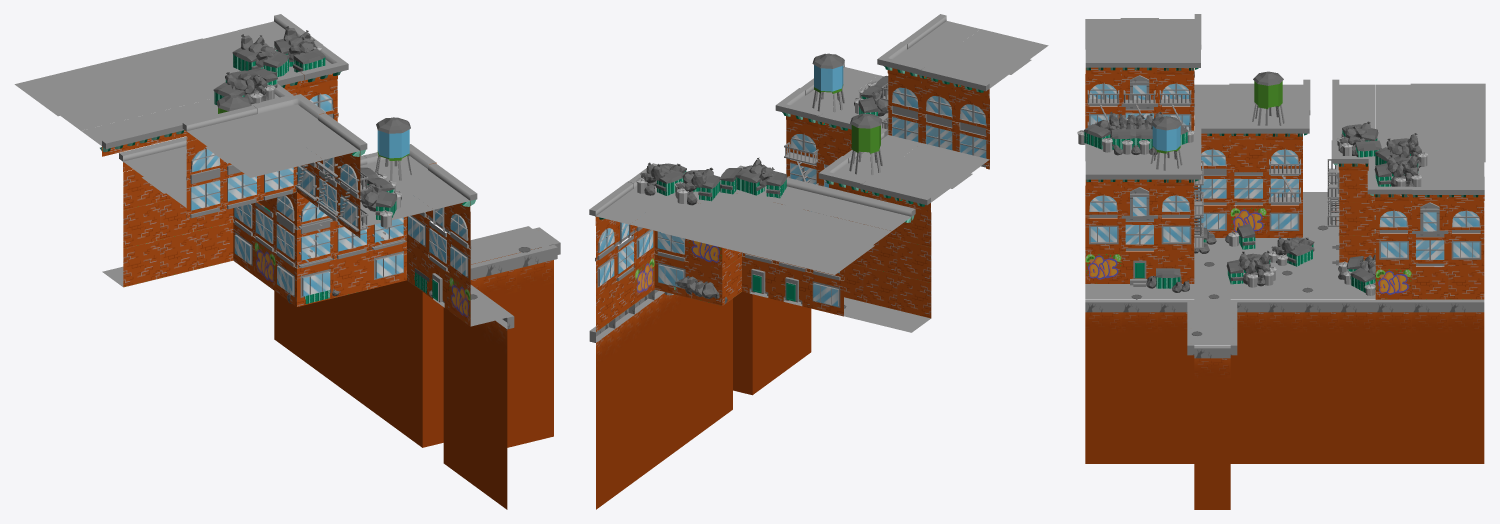
File: kamer_003_ randomized.fbx
3 renders of one model, left to right at view 1: azimuth 30°, elevation 25°; view 2: azimuth 150°, elevation 25°; view 3: azimuth 270°, elevation 25°, orthographic. The views are drawn at different scales.
Visible parts, largest first — view 1: Cylinder.001, Plane.494, Plane.528, Plane.503, Plane.531, Plane.535, Plane.631, Plane.632, Plane.534, Plane.630, Plane.633, Plane.402 (+100 smaller); view 2: Cylinder, Cylinder.001, Plane.494, Plane.507, Plane.381, Plane.535, Plane.534, Plane.531, Plane.500, Plane.502, Plane.504, Plane.601 (+105 smaller); view 3: Cylinder, Plane.374, Plane.459, Plane.582, Plane.610, Plane.613, Plane.658, Plane.660, Plane.245, Plane.246, Plane.247, Plane.585 (+136 smaller).
Boxes of the visible parts, x1,y1,x2,y2 form: Cylinder.001: (375,117,411,180); Plane.494: (253,94,326,129); Plane.528: (196,222,233,269); Plane.503: (186,171,223,218); Plane.531: (160,231,196,278); Plane.535: (123,202,159,248); Plane.631: (517,321,553,368); Plane.632: (517,360,553,406); Plane.534: (123,240,159,287); Plane.630: (517,283,553,330); Plane.633: (517,398,553,445); Plane.402: (517,244,557,291); Cylinder: (849,113,882,175); Cylinder.001: (812,53,844,112); Plane.494: (877,42,941,81); Plane.507: (818,156,883,195); Plane.381: (775,88,839,127); Plane.535: (897,239,931,282); Plane.534: (897,275,931,318); Plane.531: (863,266,897,309); Plane.500: (887,73,922,117); Plane.502: (921,82,955,125); Plane.504: (955,90,989,133); Plane.601: (810,273,843,316); Cylinder: (1252,71,1284,125); Plane.374: (1121,185,1157,219); Plane.459: (1085,299,1121,332); Plane.582: (1339,299,1375,332); Plane.610: (1085,332,1121,365); Plane.613: (1085,365,1121,398); Plane.658: (1339,332,1375,365); Plane.660: (1339,365,1375,398); Plane.245: (1194,345,1230,378); Plane.246: (1194,378,1230,411); Plane.247: (1194,411,1230,444); Plane.585: (1448,266,1484,299).
Size of the model in its own units: 1025 by 1043 by 1125.
